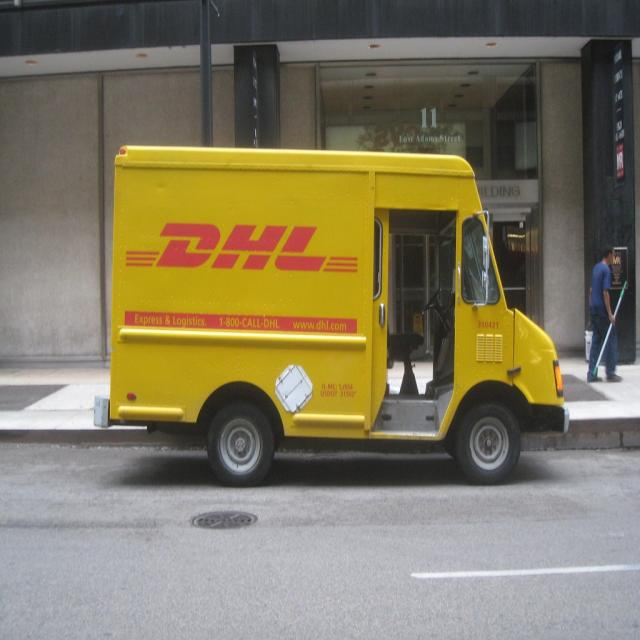dhl: (118, 217, 368, 280)
